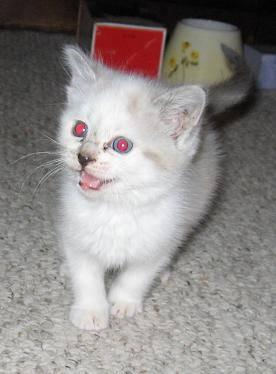cat: (56, 46, 258, 333)
